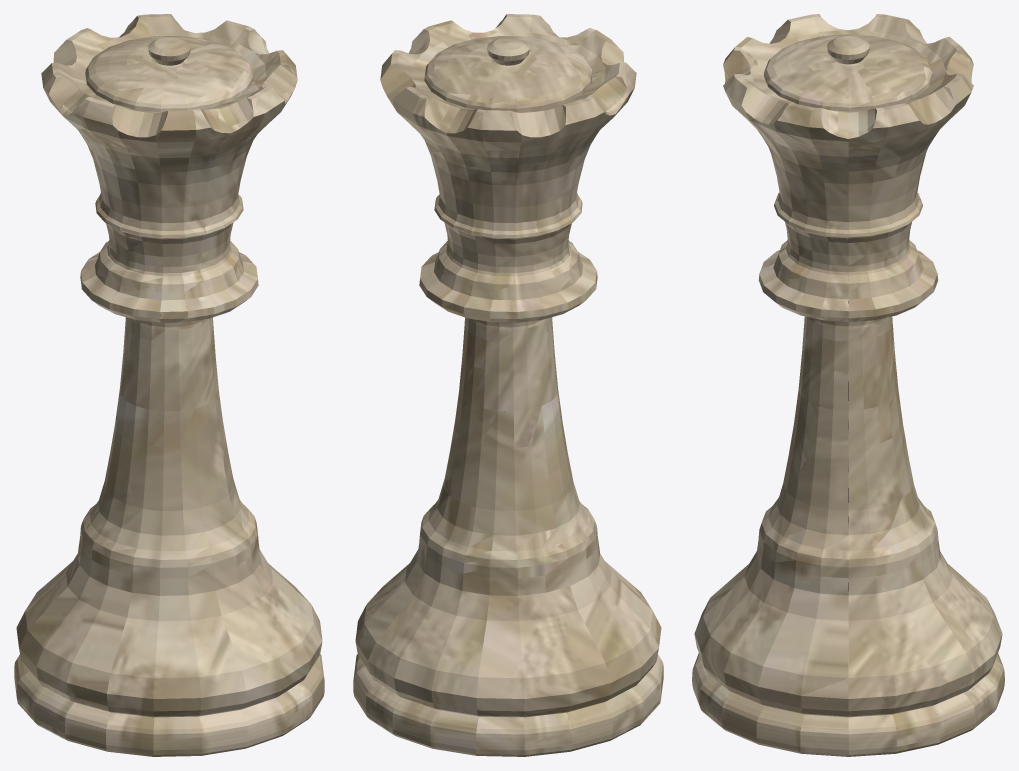
File: queen_1.obj
3 renders of one model, left to right at view 1: azimuth 30°, elevation 25°; view 2: azimuth 150°, elevation 25°; view 3: azimuth 270°, elevation 25°, orthographic.
Parts seen in each view (by area): view 1: REGINA2; view 2: REGINA2; view 3: REGINA2.
Boxes of the visible parts, x1,y1,x2,y2 form: REGINA2: (14,14,324,756); REGINA2: (353,14,663,756); REGINA2: (692,14,1004,756).
Size of the model in its own units: 93.05 by 215 by 93.04.
Materials: 1 (1 with a texture image).
